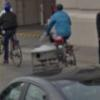bicycles: (0, 26, 24, 67)
